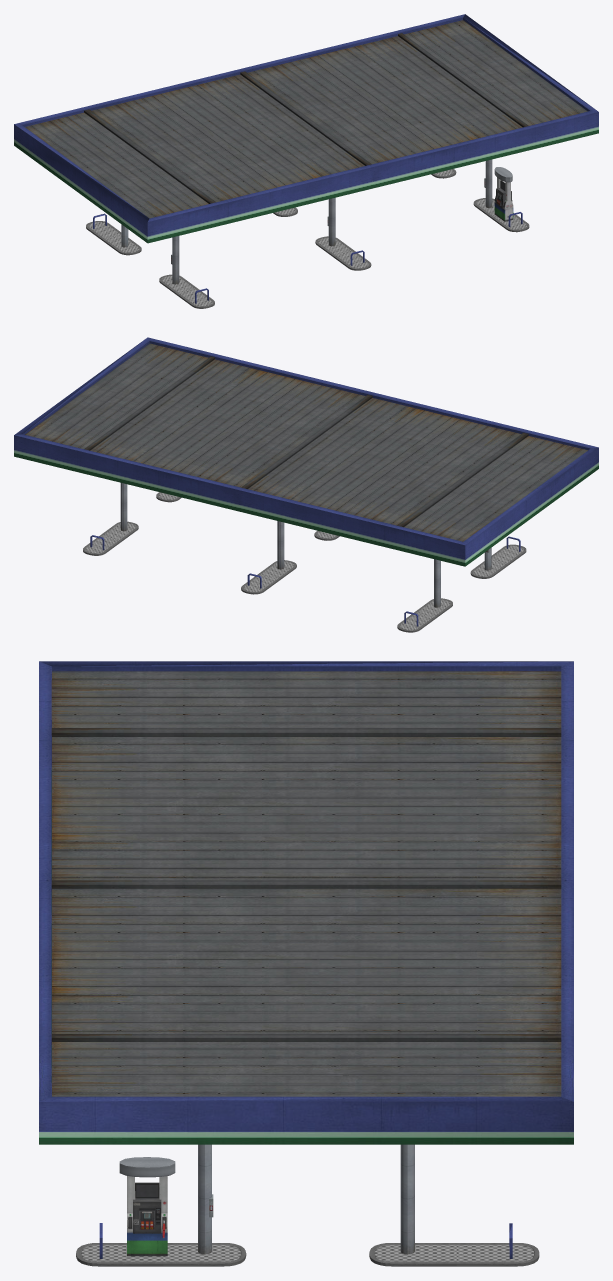
Rendered from Fuel station.fbx.
The picture shows the model from 3 angles, top to bottom: view 1: azimuth 30°, elevation 25°; view 2: azimuth 150°, elevation 25°; view 3: azimuth 270°, elevation 25°; orthographic projection. The views are drawn at different scales.
Visible parts, largest first — view 1: Feul Station, FUel Pump; view 2: Feul Station; view 3: Feul Station, FUel Pump.
Boxes of the visible parts, x1,y1,x2,y2 form: Feul Station: [14, 14, 598, 308]; FUel Pump: [494, 167, 513, 221]; Feul Station: [14, 337, 598, 632]; Feul Station: [39, 661, 573, 1266]; FUel Pump: [119, 1157, 175, 1256].
Bounding box in the file's own units: 2640 × 614 × 1355.
2 materials, 2 textured.
